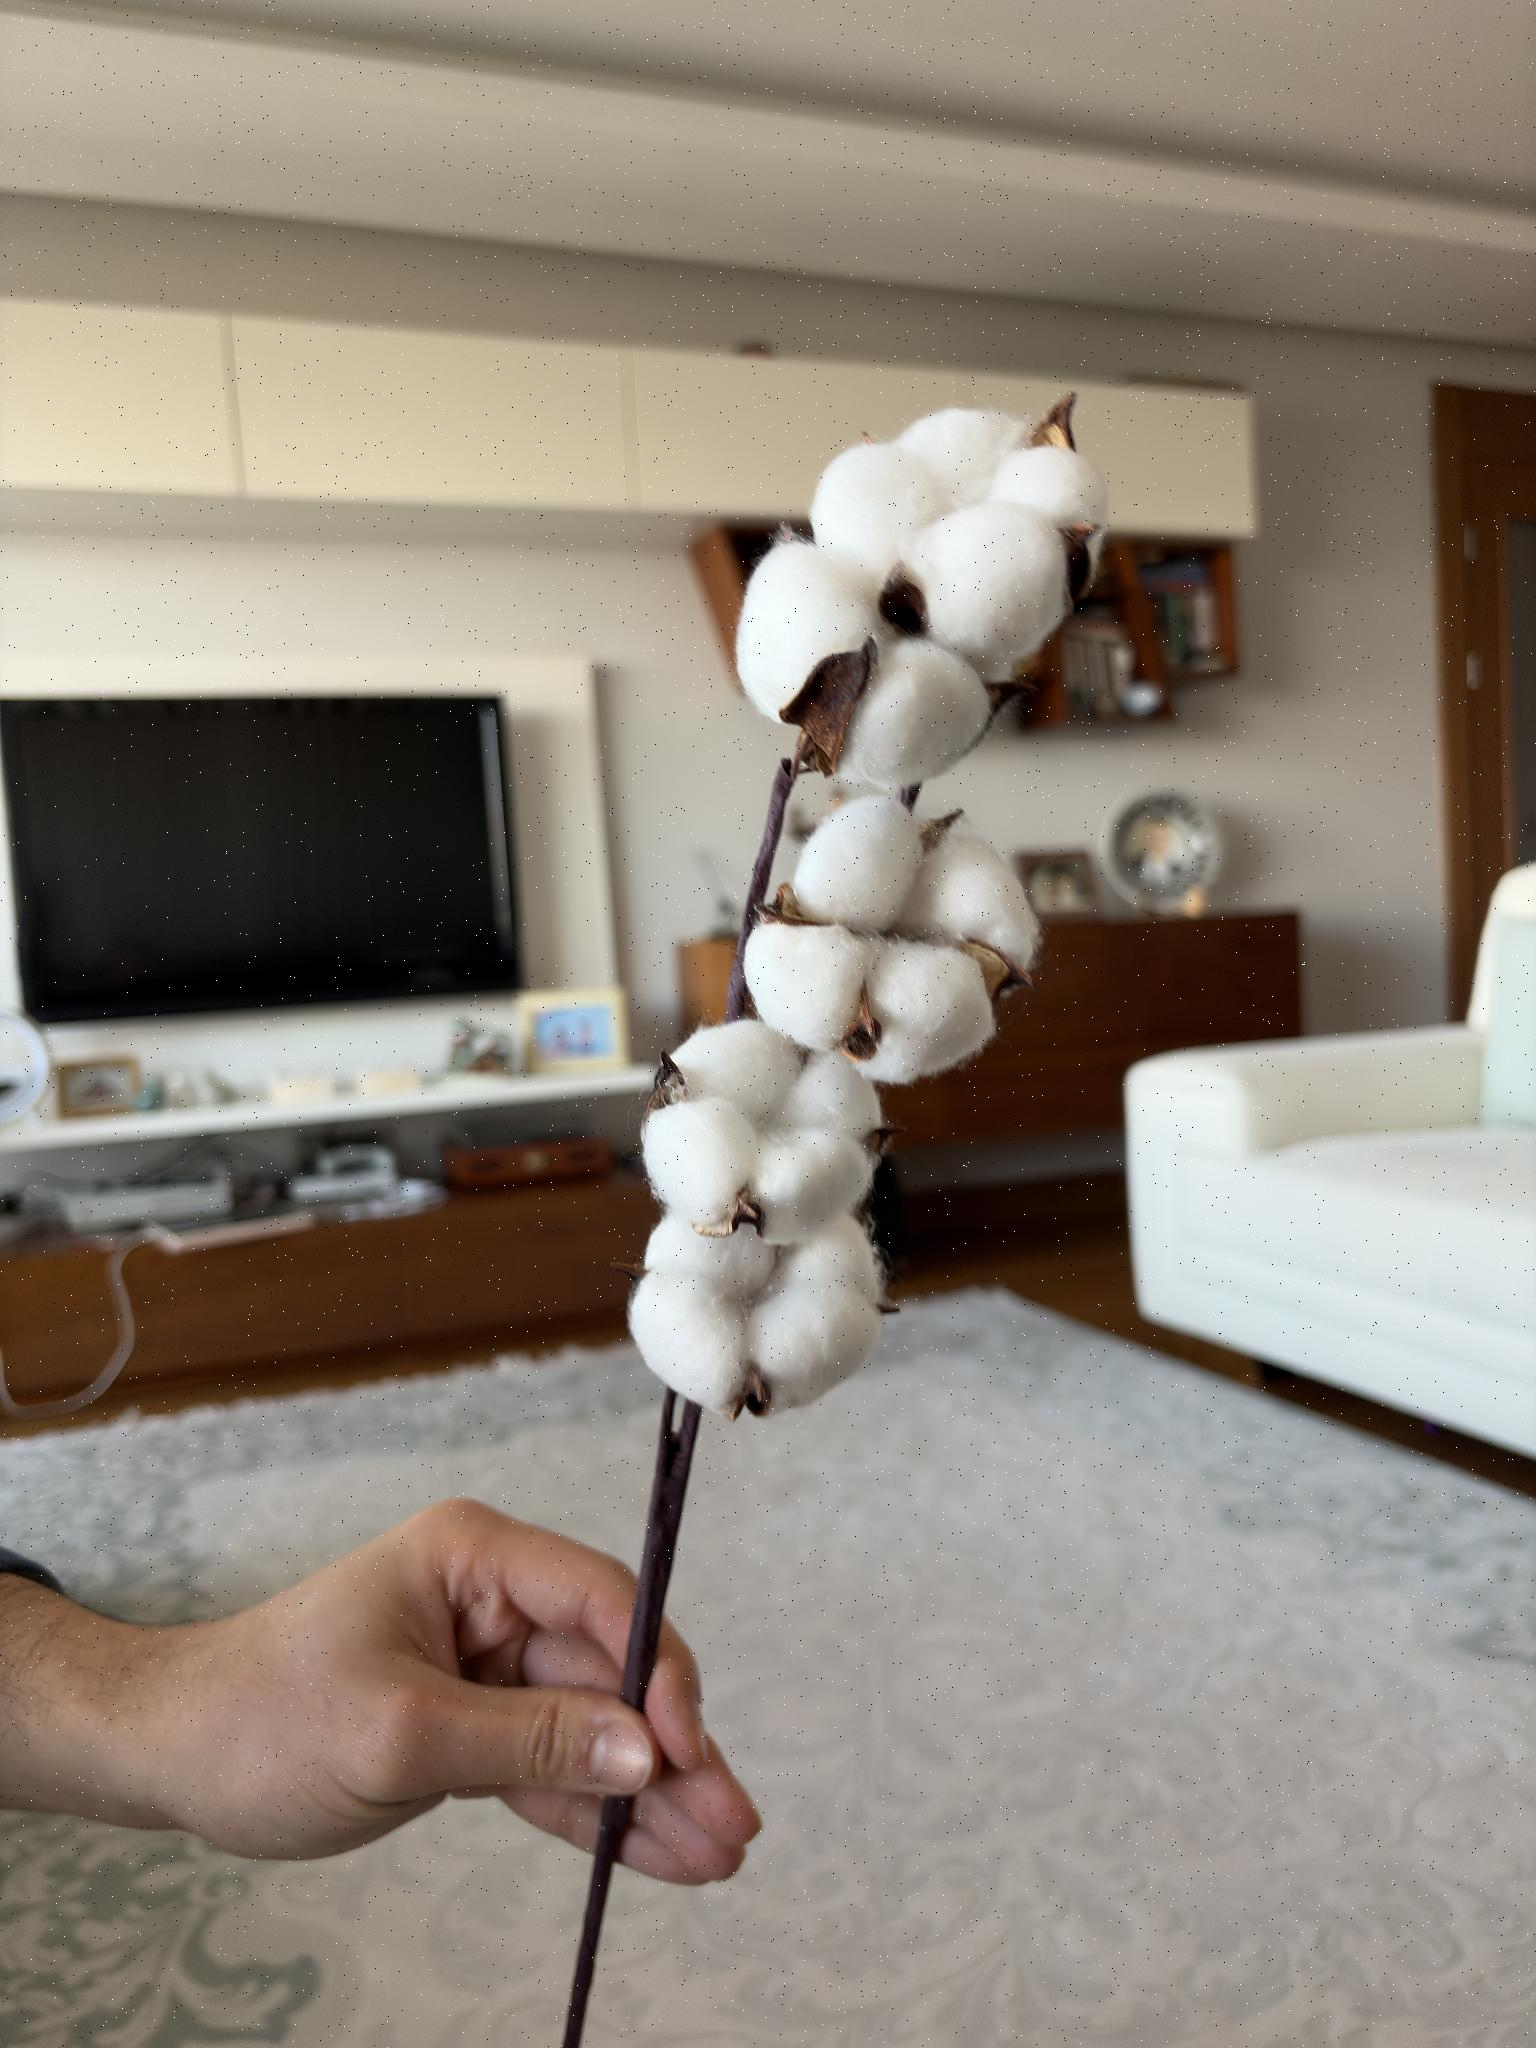cotton_boll: (899, 502, 1068, 682), (736, 540, 879, 718), (839, 639, 989, 789), (900, 824, 1039, 968), (812, 442, 954, 581), (863, 940, 995, 1084), (747, 1276, 883, 1411), (792, 795, 923, 932), (745, 921, 876, 1050), (629, 1269, 745, 1414), (749, 1126, 873, 1245), (642, 1098, 758, 1226), (671, 1019, 800, 1122), (897, 408, 1033, 505), (644, 1211, 776, 1300), (773, 1214, 884, 1306), (991, 443, 1107, 529), (779, 1050, 883, 1142)
cotton_boll-cluster: (712, 356, 1150, 798), (736, 784, 1054, 1079), (624, 1193, 891, 1417), (631, 1016, 891, 1235)
